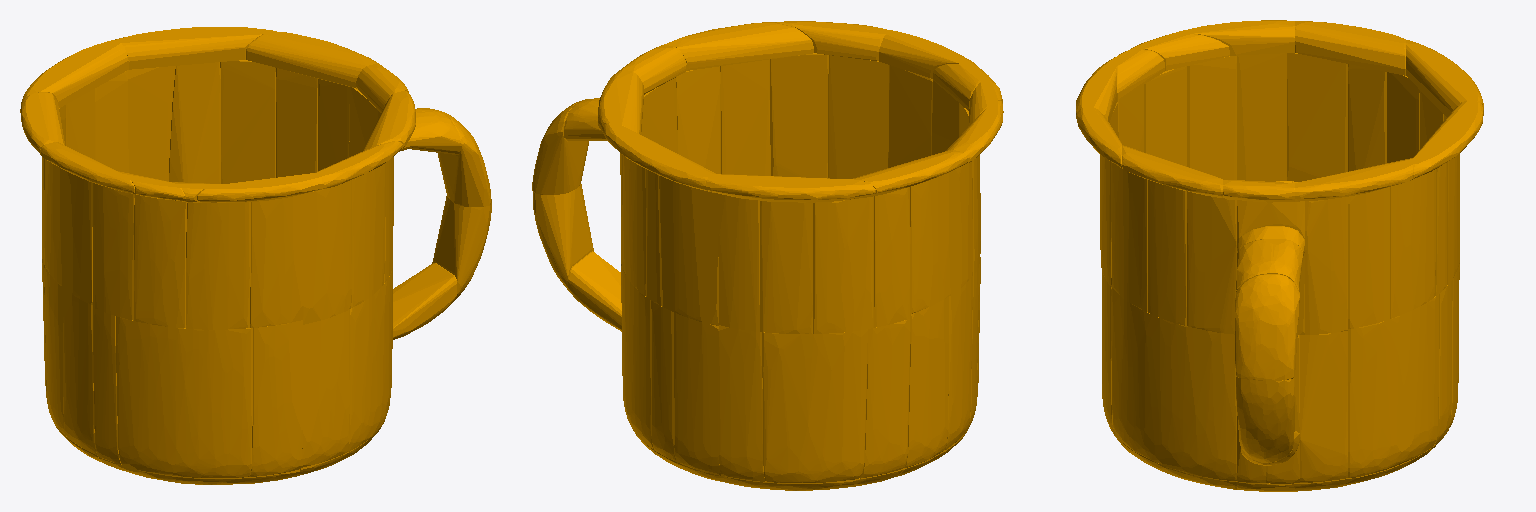
URDF robot description (025_mug):
<?xml version="1.0" encoding="UTF-8"?>
<robot name="025_mug">
	<link name="base">
		<collision>
			<geometry>
				<mesh filename="..\vhacd\025_mug_vhacd.obj" scale="1.0 1.0 1.0"/>
			</geometry>
			<origin xyz="0 0 0"/>
			<contact_coefficients mu="0.24" />
		</collision>
		<visual>
			<geometry>
				<mesh filename="..\vhacd\025_mug_vhacd.obj" scale="1.0 1.0 1.0"/>
			</geometry>
			<origin xyz="0 0 0"/>
		</visual>
		<inertial>
			<mass value="0.118"/>
			<inertia ixx="0.00010169030139809604" ixy="6.428495310229145e-07" ixz="-2.903009607767603e-06" iyy="0.00011557934807268455" iyz="-2.510019057102014e-06" izz="0.0001472921464050545" />
			<origin xyz="-0.018858606476823362 0.016572962411367288 0.026898852033388383"/>
		</inertial>
	</link>
</robot>

--- Facts derived from the render (not from the file) ---
The picture shows the robot from 3 angles, left to right: view 1: azimuth 30°, elevation 25°; view 2: azimuth 150°, elevation 25°; view 3: azimuth 270°, elevation 25°; orthographic projection.
Model 025_mug with 1 links and 0 joints (none), rooted at base, posed all joints at 0.
Visible links, largest first — view 1: base; view 2: base; view 3: base.
Link boxes in pixels (x1,y1,x2,y2): base: [20, 27, 491, 484]; base: [532, 21, 1003, 490]; base: [1076, 20, 1483, 491].
Bounding box of the posed robot: 0.1172 × 0.0934 × 0.0814 m (x, y, z).
1 mesh visuals loaded from 1 distinct referenced files (1 OBJ).